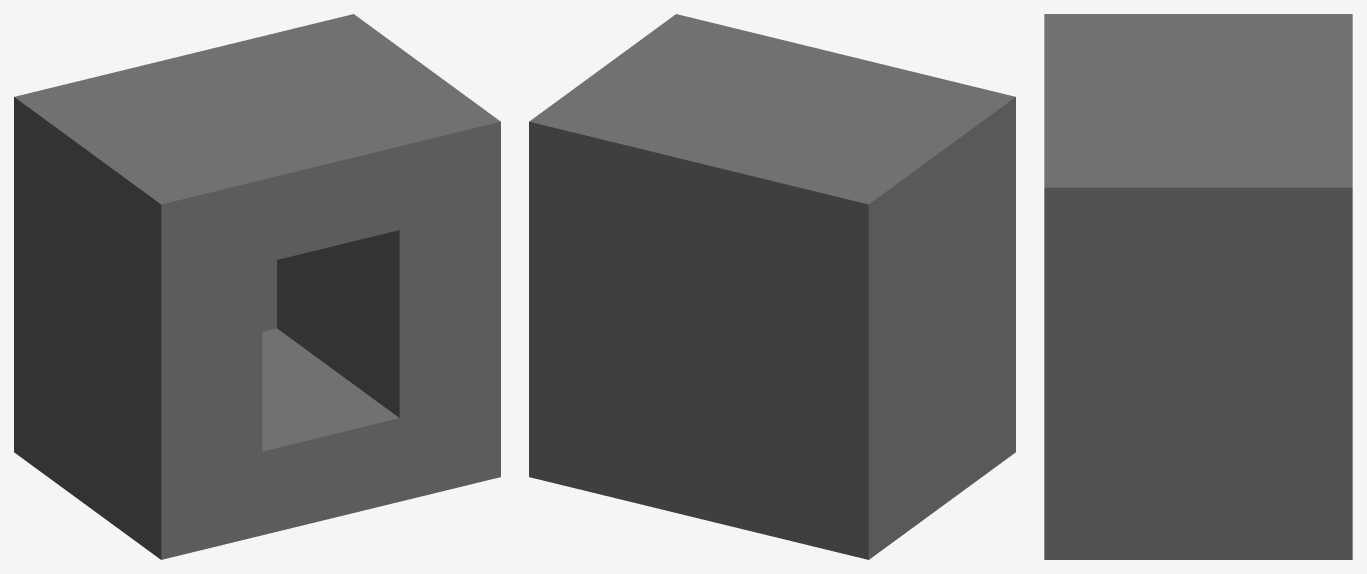
The model's file is hole.obj.
The picture shows the model from 3 angles, left to right: view 1: azimuth 30°, elevation 25°; view 2: azimuth 150°, elevation 25°; view 3: azimuth 270°, elevation 25°; orthographic projection. The views are drawn at different scales.
Parts seen in each view (by area): view 1: hole; view 2: hole; view 3: hole.
Part boxes in pixels (left/top/right/bottom): hole: left=14, top=14, right=500, bottom=559; hole: left=529, top=14, right=1015, bottom=559; hole: left=1044, top=14, right=1352, bottom=559.
Size of the model in its own units: 0.08 by 0.08 by 0.06.
1 material, 1 textured.
